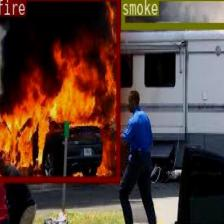fire: (0, 0, 120, 181)
smoke: (121, 0, 224, 28)
